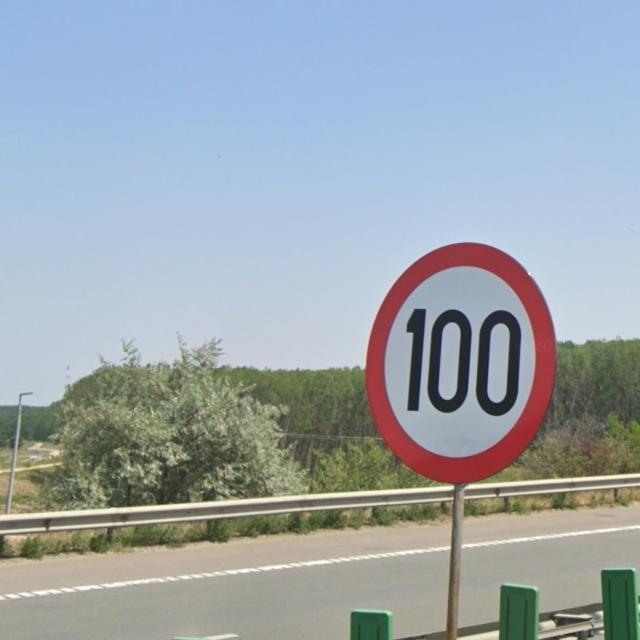forb_speed_over_100: (364, 238, 557, 484)
